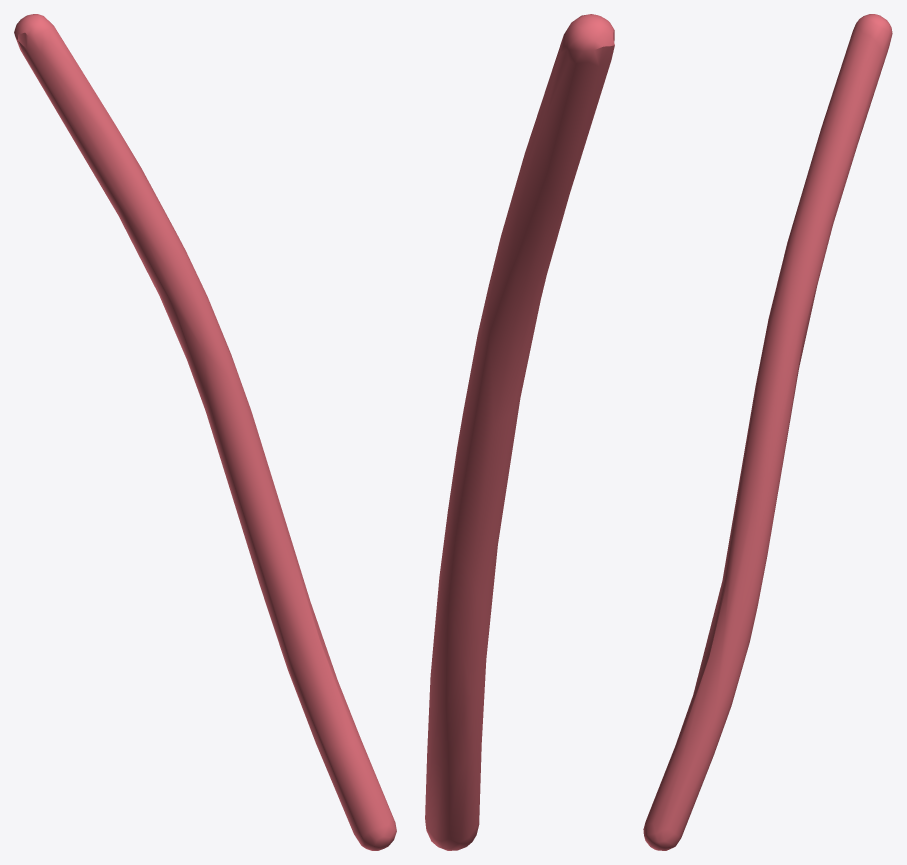
The model's file is fma85118_fj2315.glb.
The picture shows the model from 3 angles, left to right: view 1: azimuth 30°, elevation 25°; view 2: azimuth 150°, elevation 25°; view 3: azimuth 270°, elevation 25°; orthographic projection. The views are drawn at different scales.
Parts seen in each view (by area): view 1: FMA85118_FJ2315; view 2: FMA85118_FJ2315; view 3: FMA85118_FJ2315.
Part boxes in pixels (box(x1,y1,x2,y2)): FMA85118_FJ2315: box(14, 14, 396, 850); FMA85118_FJ2315: box(425, 14, 614, 850); FMA85118_FJ2315: box(643, 14, 892, 850).
Bounding box in the file's own units: 0.0103 × 0.0301 × 0.00927.
